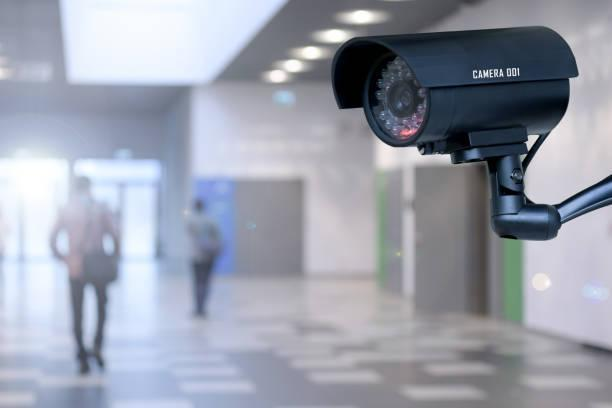camera: (308, 0, 612, 252)
